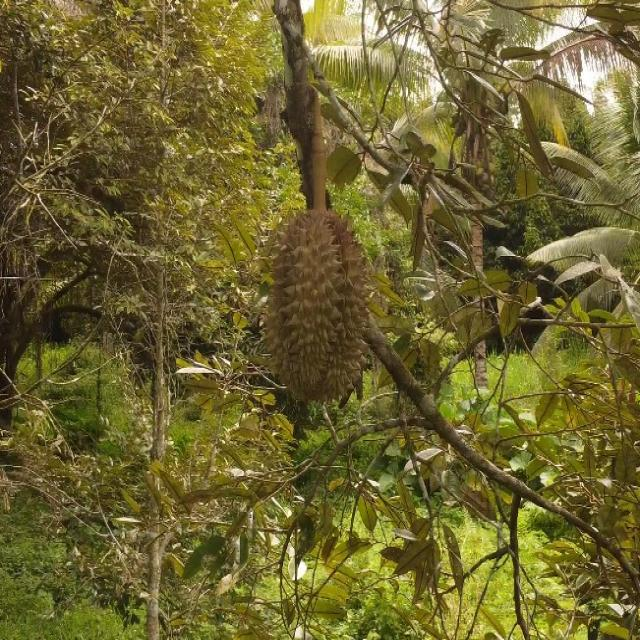mature: (264, 210, 374, 410)
